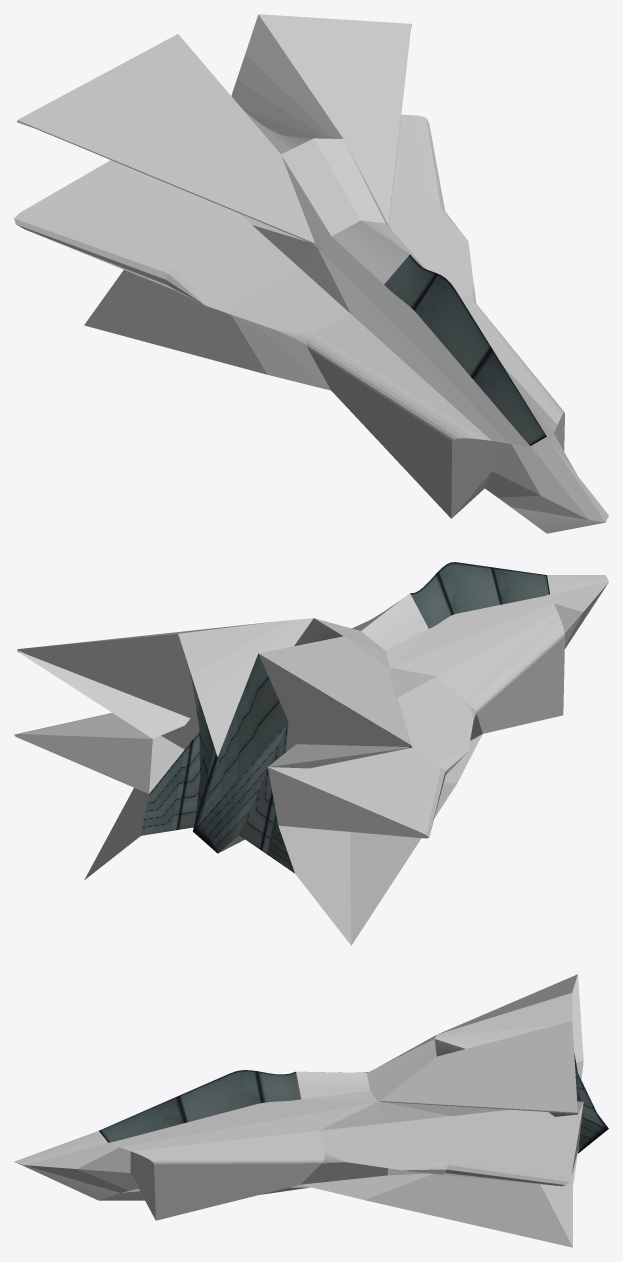
The model's file is Spaceship.fbx.
3 views of the same model, one above another, from view 1: azimuth 30°, elevation 25°; view 2: azimuth 150°, elevation 25°; view 3: azimuth 270°, elevation 25° (orthographic). The views are drawn at different scales.
Parts seen in each view (by area): view 1: Cube; view 2: Cube; view 3: Cube.
Boxes of the visible parts, <box> form: Cube: <box>14,14,608,533</box>; Cube: <box>14,562,608,945</box>; Cube: <box>14,974,608,1247</box>.
Bounding box in the file's own units: 10.23 × 6.38 × 17.71.
